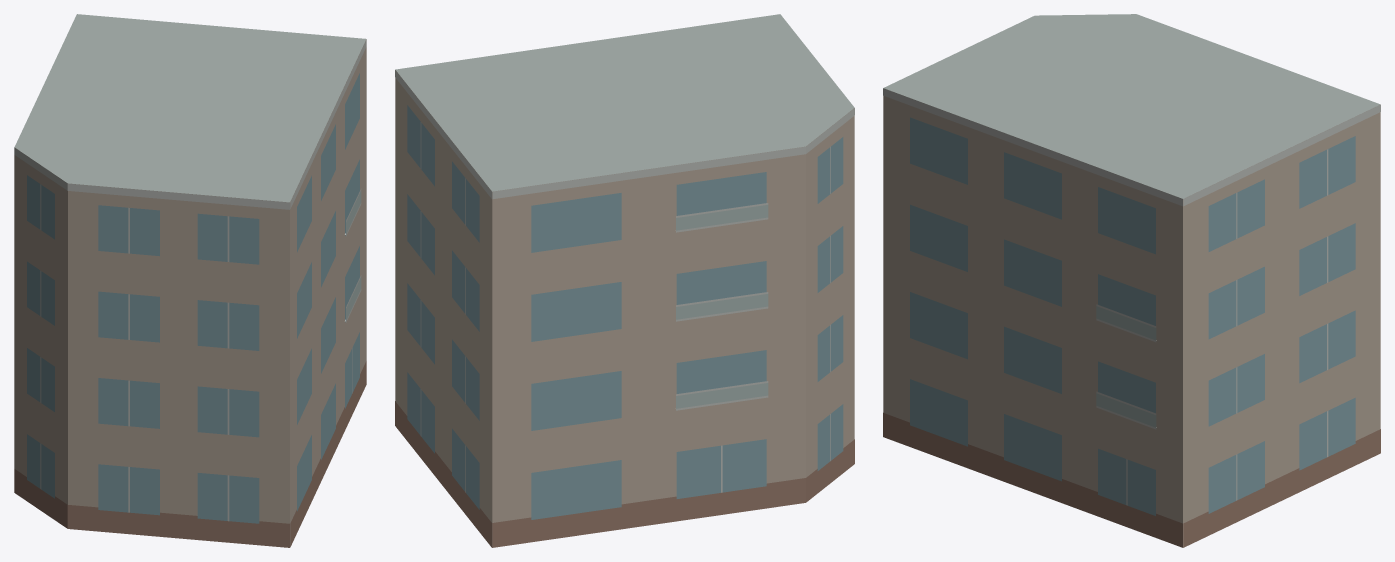
Rendered from survey-upis-32666083.glb.
3 views of the same model, side by side, from view 1: azimuth 30°, elevation 25°; view 2: azimuth 150°, elevation 25°; view 3: azimuth 270°, elevation 25° (orthographic). The views are drawn at different scales.
Parts seen in each view (by area): view 1: survey-upis-32666083.tmp; view 2: survey-upis-32666083.tmp; view 3: survey-upis-32666083.tmp.
Part boxes in pixels (left/top/right/bottom): survey-upis-32666083.tmp: left=14, top=14, right=366, bottom=547; survey-upis-32666083.tmp: left=395, top=14, right=854, bottom=547; survey-upis-32666083.tmp: left=883, top=14, right=1380, bottom=547.
Bounding box in the file's own units: 12.85 × 11.3 × 14.61.
